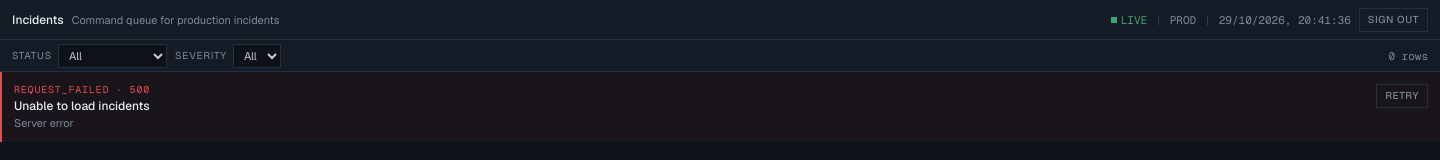
IncidentsPage › shows an error state with a working retry on a failed fetch
Expected: the heading "Unable to load incidents" is shown, [14,98,150,114]
Click the button "Retry".
click(1402, 96)  # box [1376,84,1428,108]
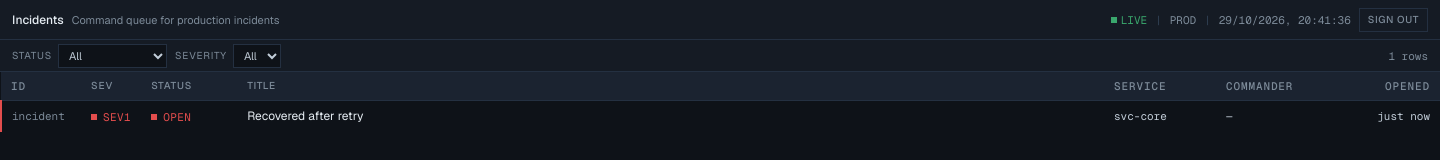
Expected: the text "Recovered after retry" is shown, [247,108,364,124]
